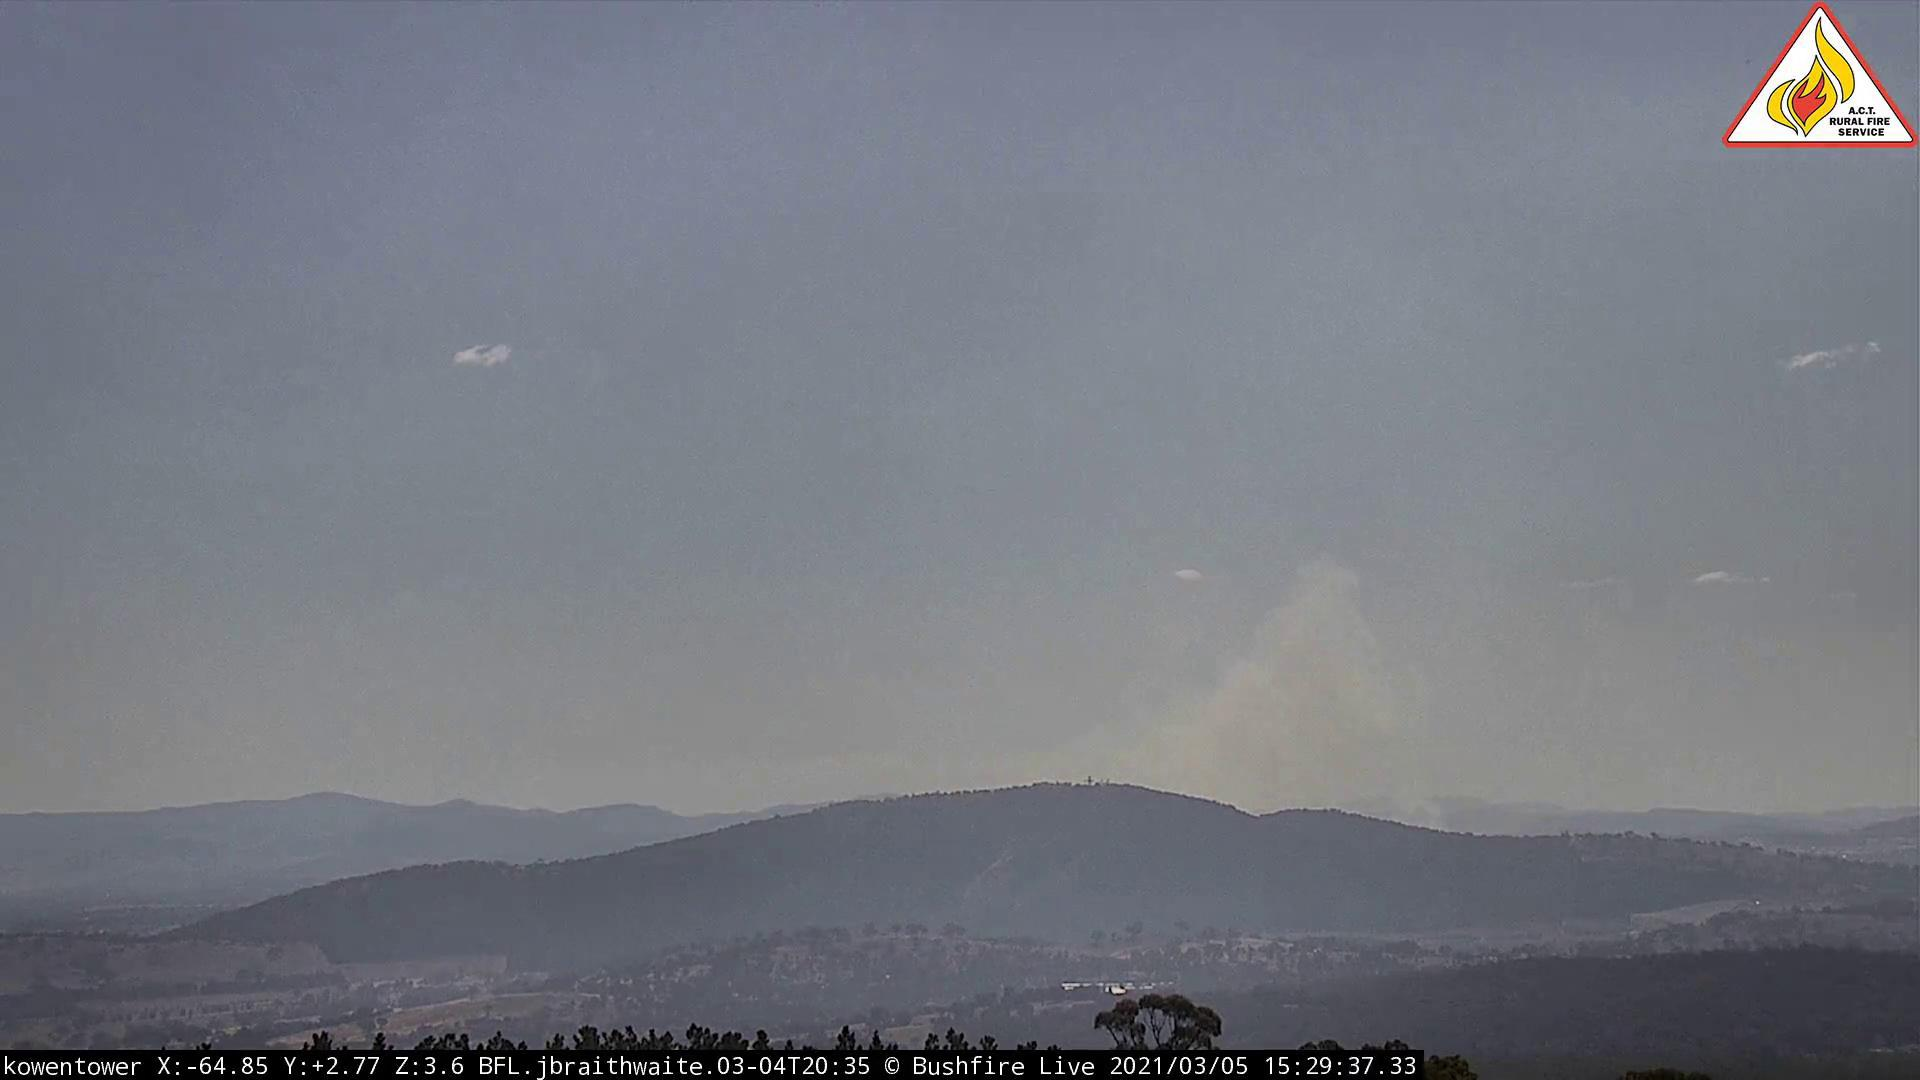Smoke: (1081, 535, 1449, 841)
